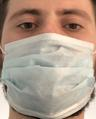with_mask: (1, 1, 96, 119)
